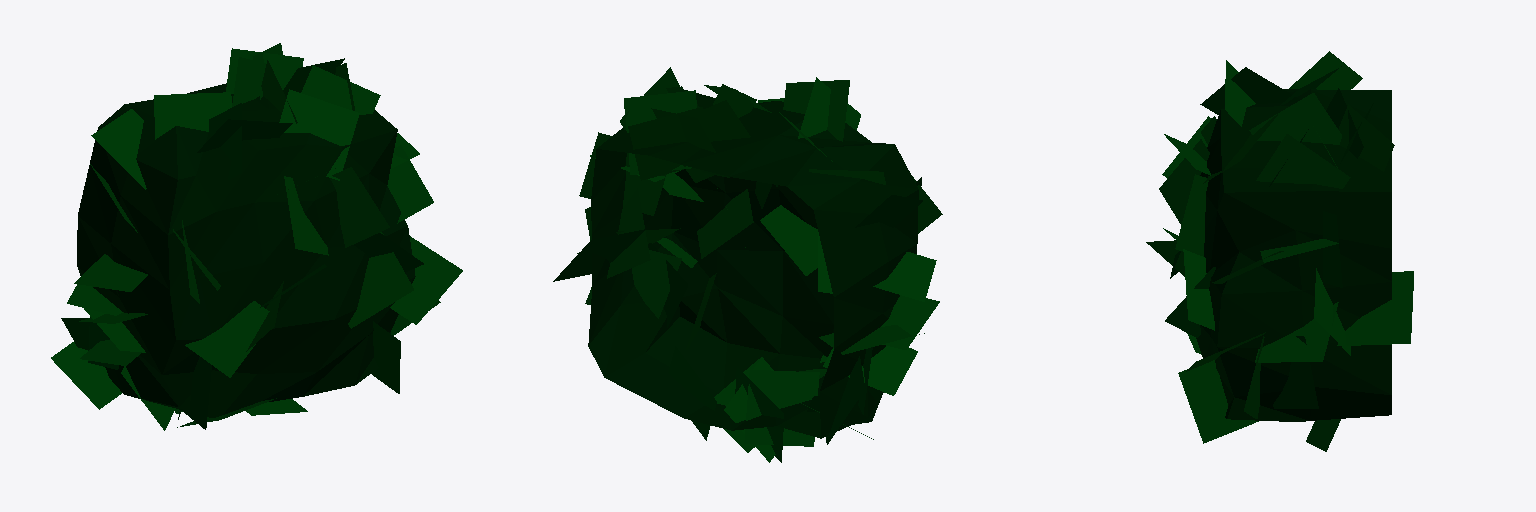
The model's file is ShrubberyExtra.obj.
The picture shows the model from 3 angles: view 1: azimuth 30°, elevation 25°; view 2: azimuth 150°, elevation 25°; view 3: azimuth 270°, elevation 25°; orthographic projection.
Parts seen in each view (by area): view 1: Box001, Mesher001; view 2: Box001, Mesher001; view 3: Box001, Mesher001.
Part boxes in pixels (left/top/right/bottom): Box001: left=77, top=83, right=415, bottom=417; Mesher001: left=51, top=43, right=462, bottom=430; Box001: left=588, top=90, right=918, bottom=438; Mesher001: left=553, top=67, right=942, bottom=462; Box001: left=1196, top=89, right=1391, bottom=421; Mesher001: left=1146, top=51, right=1413, bottom=451.
Bounding box in the file's own units: 34.83 × 34.88 × 23.94.